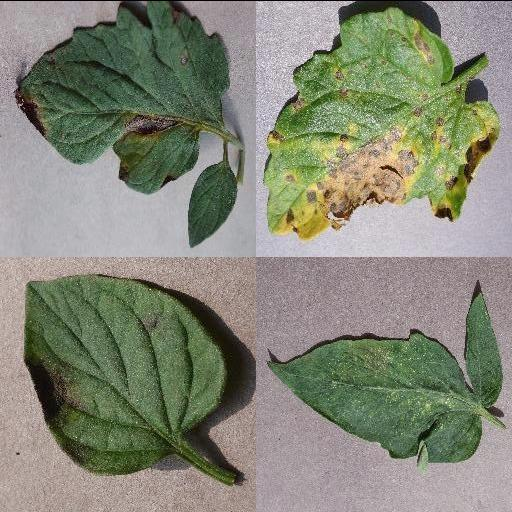Early Blight: (13, 0, 229, 192)
Late Blight: (18, 273, 226, 475)
Septoria: (265, 6, 499, 236)
Spider Mites: (266, 291, 504, 477)
